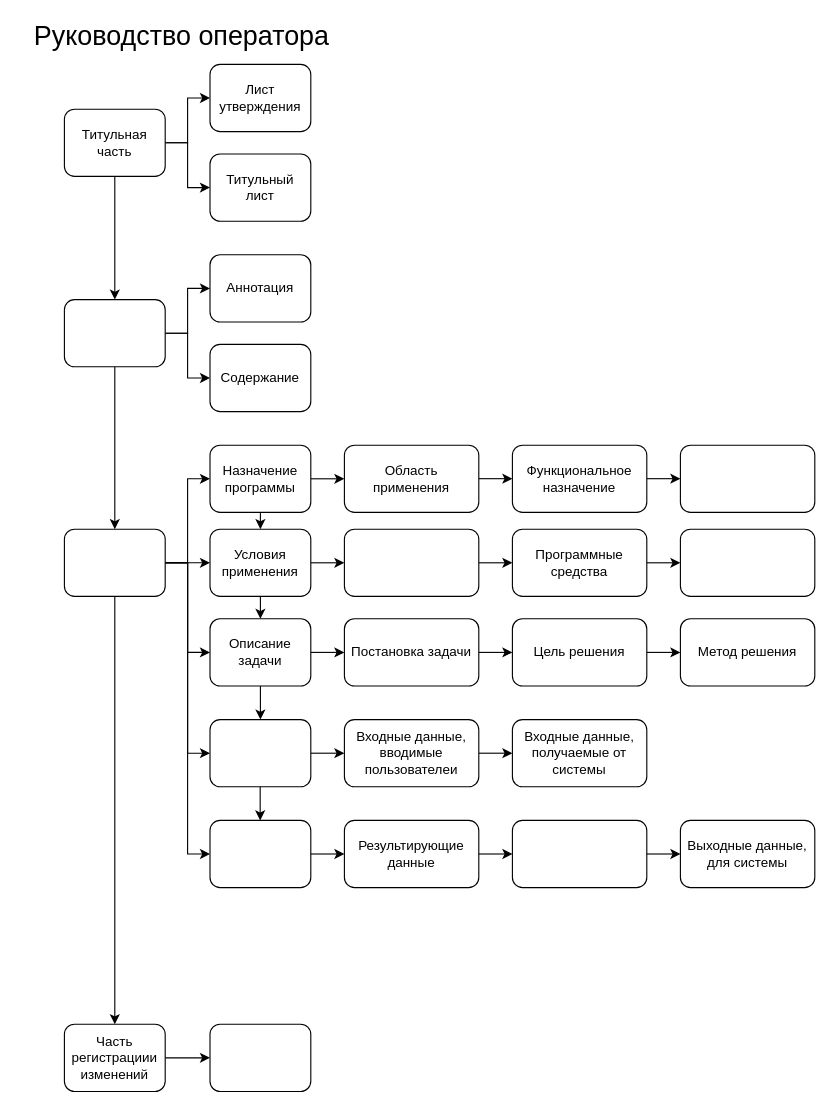
Image size: 834x1111. Some labels were removed from this diagram. The box of each missing label's shape, as (x1, y1, x2, y2) in pixels:
Входные данные: (209, 718, 311, 787)
Выходные данные: (209, 819, 311, 888)
Выходные данные, отображаемые пользователю: (511, 819, 647, 888)
Информацио нная часть: (63, 298, 165, 367)
Лист регистрациии изменений: (209, 1023, 311, 1091)
Ограничения применения: (679, 528, 815, 596)
Основная часть: (63, 528, 165, 596)
Технические средства: (343, 528, 479, 596)
Эксплуатационное назначение: (679, 444, 815, 512)
